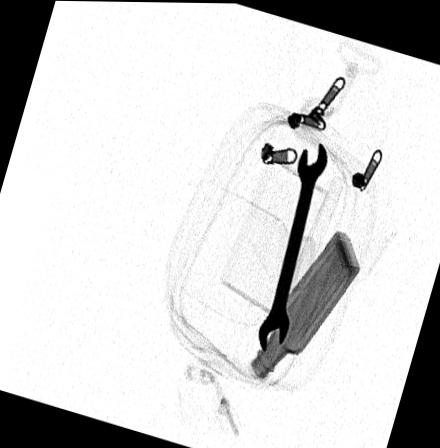Wrench: (256, 139, 329, 354)
